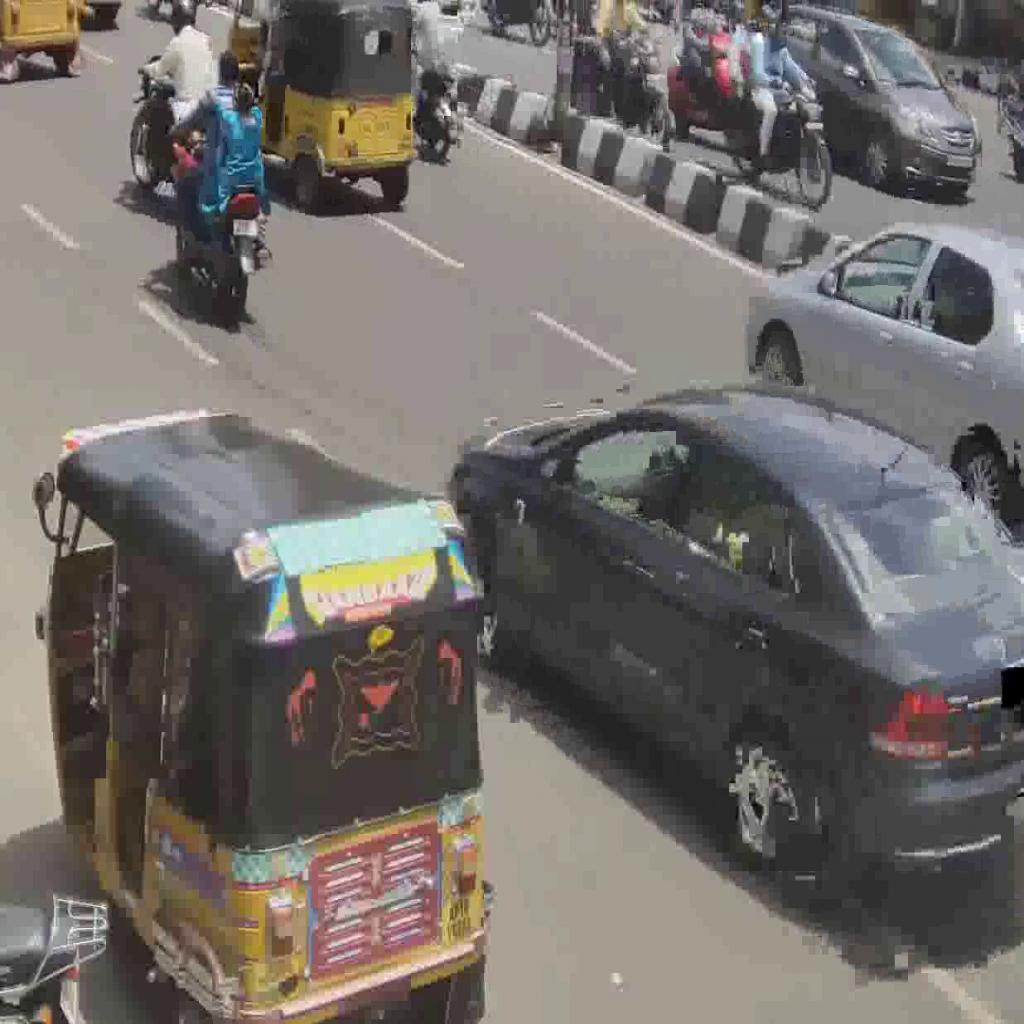bike: (170, 119, 272, 320)
lisc: (233, 218, 257, 237)
no_helmet: (234, 65, 258, 106), (217, 48, 241, 87)
noise: (724, 0, 833, 209), (570, 0, 675, 153), (665, 0, 749, 141)
rider: (172, 48, 250, 268), (196, 66, 272, 246)
